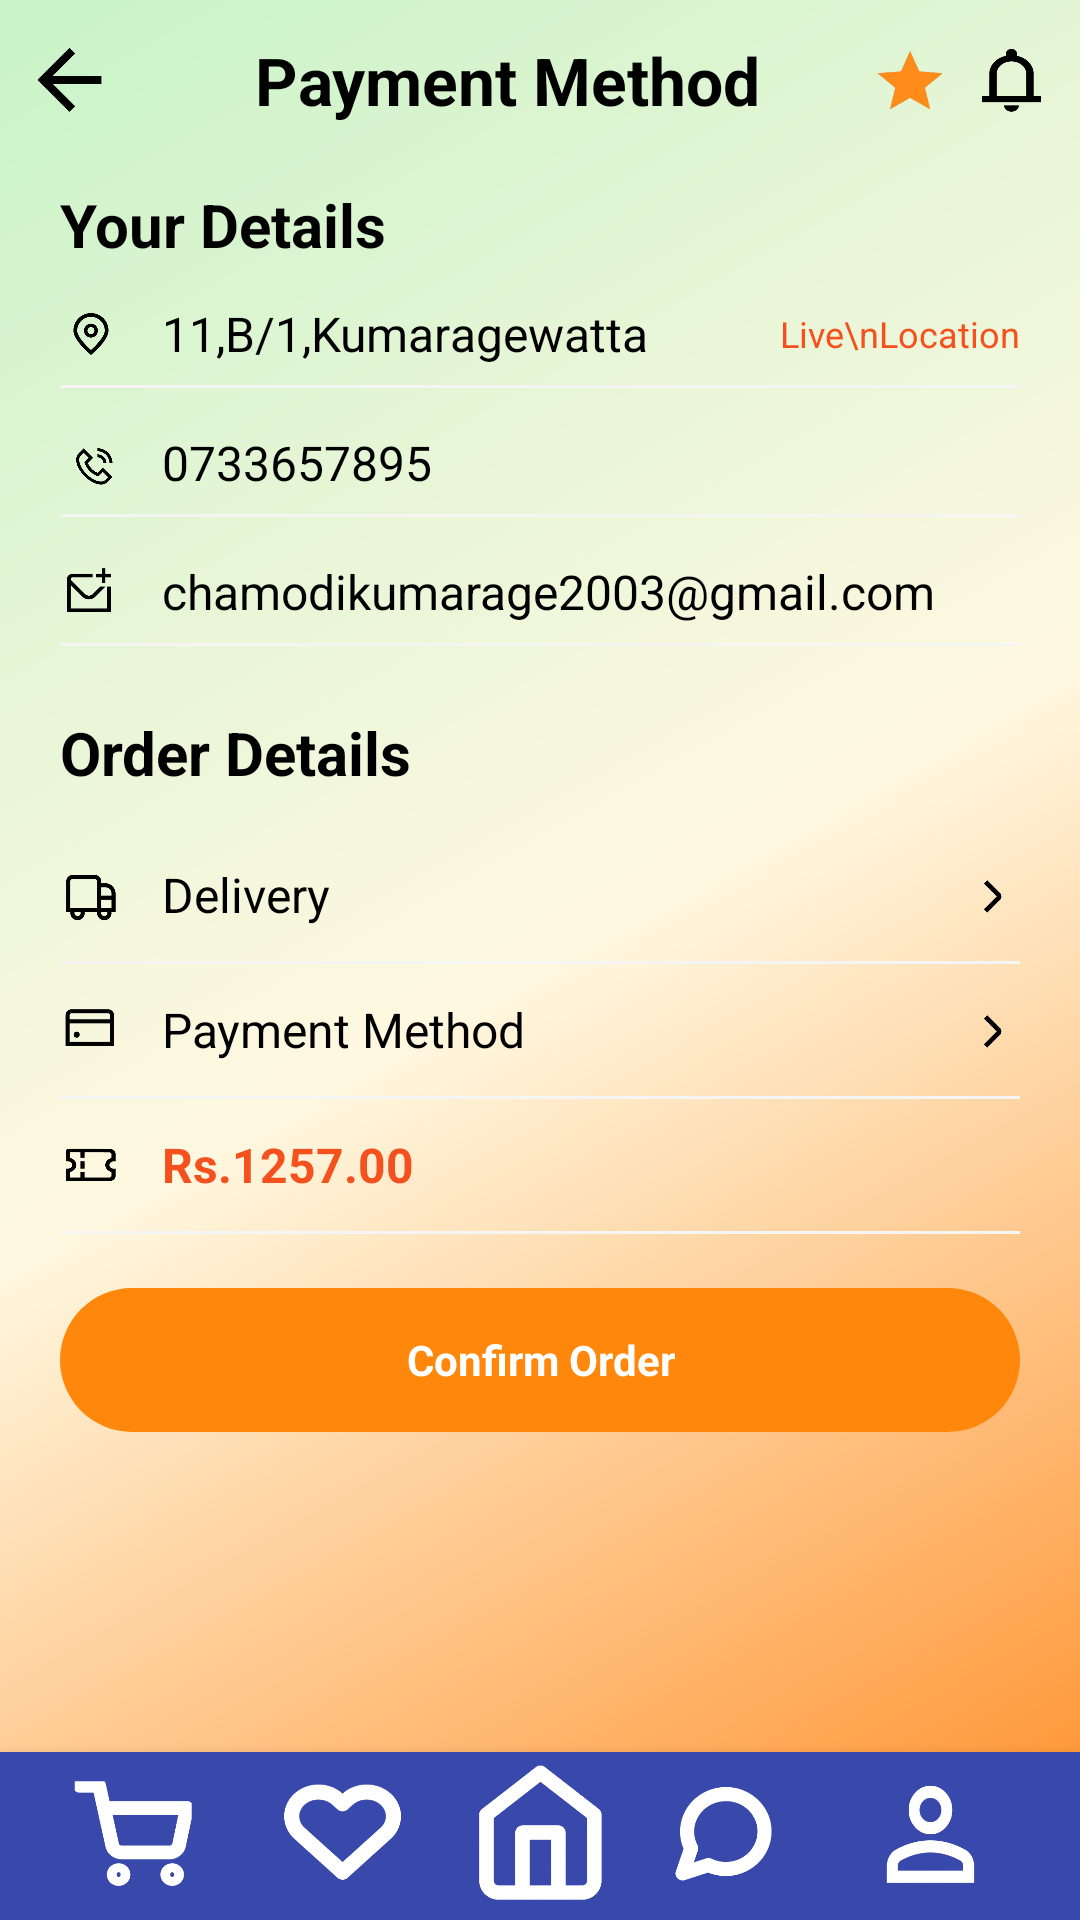

Icon click points for this 1080w x 1920h phone screenshot, format [x,y]:
back arrow: [70,80]
bell: [1011,80]
location: [91,334]
menu cart: [133,1833]
menu home: [540,1832]
menu profile: [930,1834]
menu wishlist: [342,1832]
options arrow: [993,896], [993,1031]
phone: [94,466]
star: [909,80]
